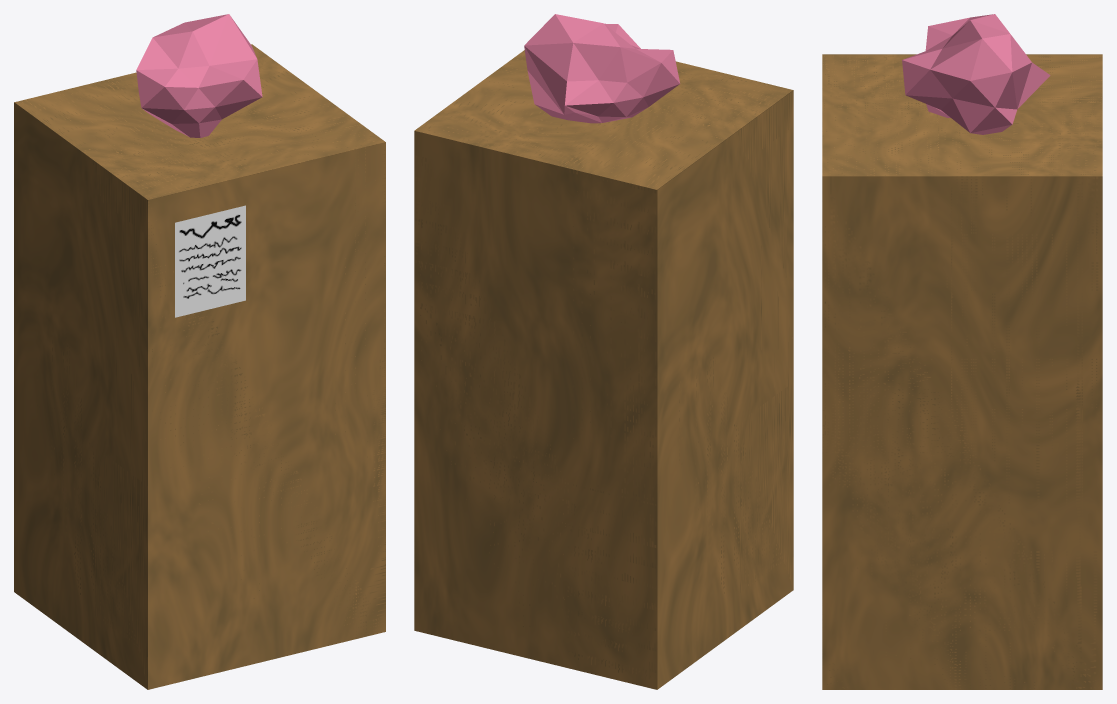
File: PedraMuseu.fbx
The picture shows the model from 3 angles, left to right: view 1: azimuth 30°, elevation 25°; view 2: azimuth 150°, elevation 25°; view 3: azimuth 270°, elevation 25°; orthographic projection. The views are drawn at different scales.
Visible parts, largest first — view 1: Mesa, Pedra, Descricao; view 2: Mesa, Pedra; view 3: Mesa, Pedra.
Part boxes in pixels (x1,y1,x2,y2): Mesa: (14,44,385,689); Pedra: (136,14,262,137); Descricao: (175,205,245,317); Mesa: (414,50,793,689); Pedra: (524,14,680,123); Mesa: (822,54,1102,689); Pedra: (902,14,1050,134).
Bounding box in the file's own units: 50.34 × 118 × 48.98.
